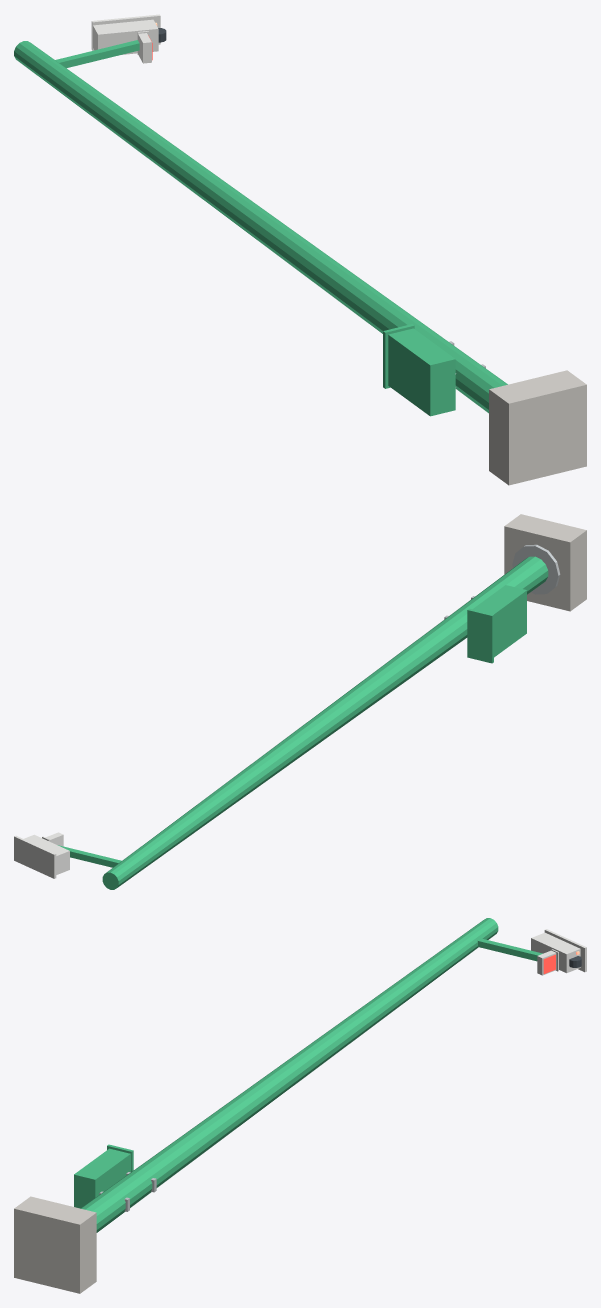
The model's file is baculo-camara.glb.
3 views of the same model, one above another, from view 1: azimuth 30°, elevation 25°; view 2: azimuth 150°, elevation 25°; view 3: azimuth 330°, elevation 25° (orthographic). The views are drawn at different scales.
Visible parts, largest first — view 1: FusteYArmario, DadoHormigon, CamaraCuerpo; view 2: FusteYArmario, DadoHormigon, CamaraCuerpo, Herrajes; view 3: FusteYArmario, DadoHormigon, CamaraCuerpo.
Part boxes in pixels (left/top/right/bottom): FusteYArmario: left=14, top=40, right=507, bottom=416; DadoHormigon: left=489, top=370, right=586, bottom=485; CamaraCuerpo: left=91, top=14, right=160, bottom=63; FusteYArmario: left=57, top=556, right=548, bottom=889; DadoHormigon: left=504, top=514, right=586, bottom=611; CamaraCuerpo: left=14, top=832, right=69, bottom=878; Herrajes: left=444, top=544, right=560, bottom=619; FusteYArmario: left=74, top=918, right=542, bottom=1232; DadoHormigon: left=14, top=1196, right=96, bottom=1293; CamaraCuerpo: left=531, top=929, right=586, bottom=975.
Bounding box in the file's own units: 1.75 × 0.8 × 9.3.
